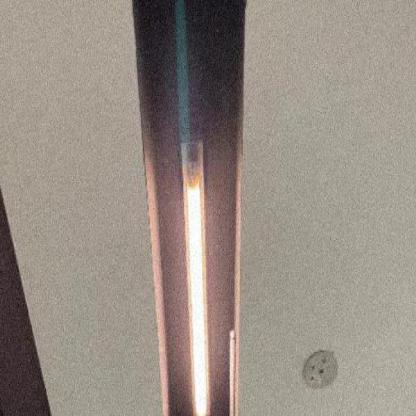light_on: (172, 107, 218, 415)
